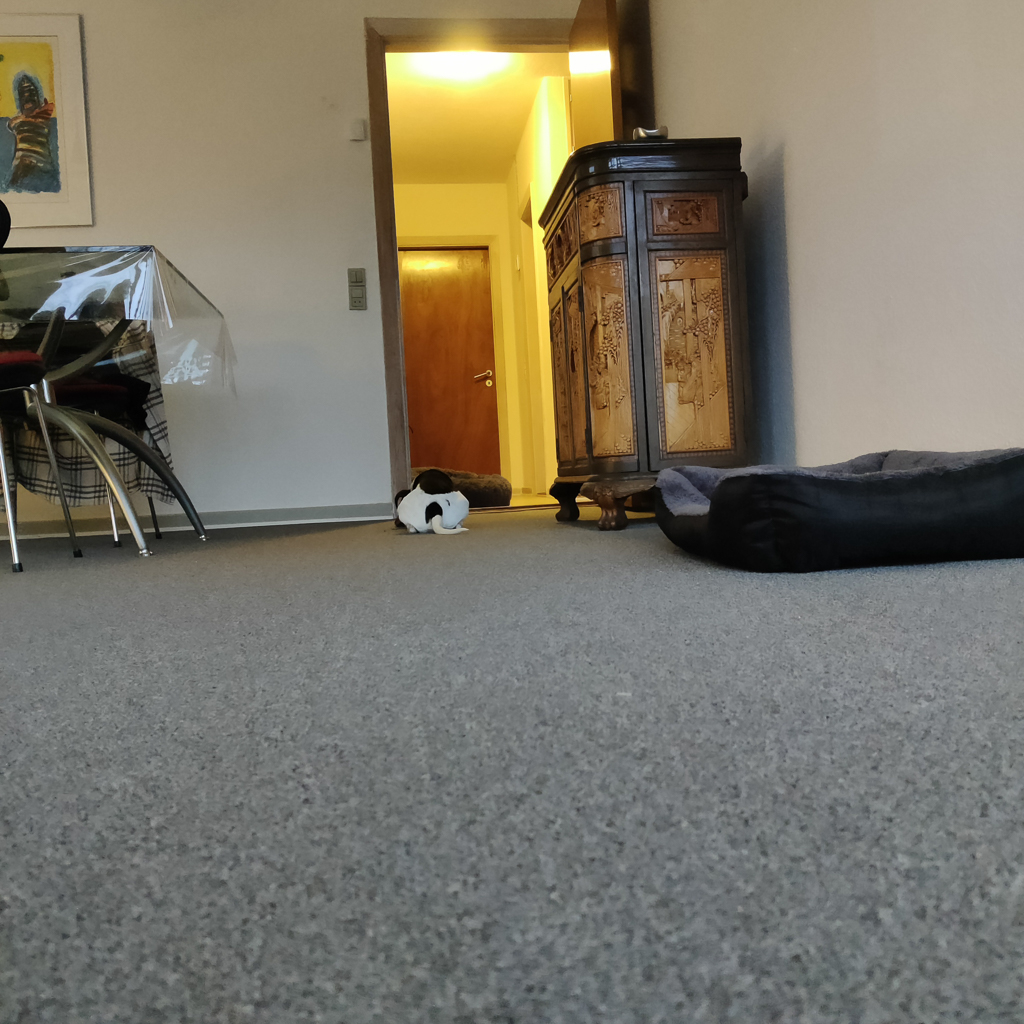Dog: (382, 463, 481, 542)
